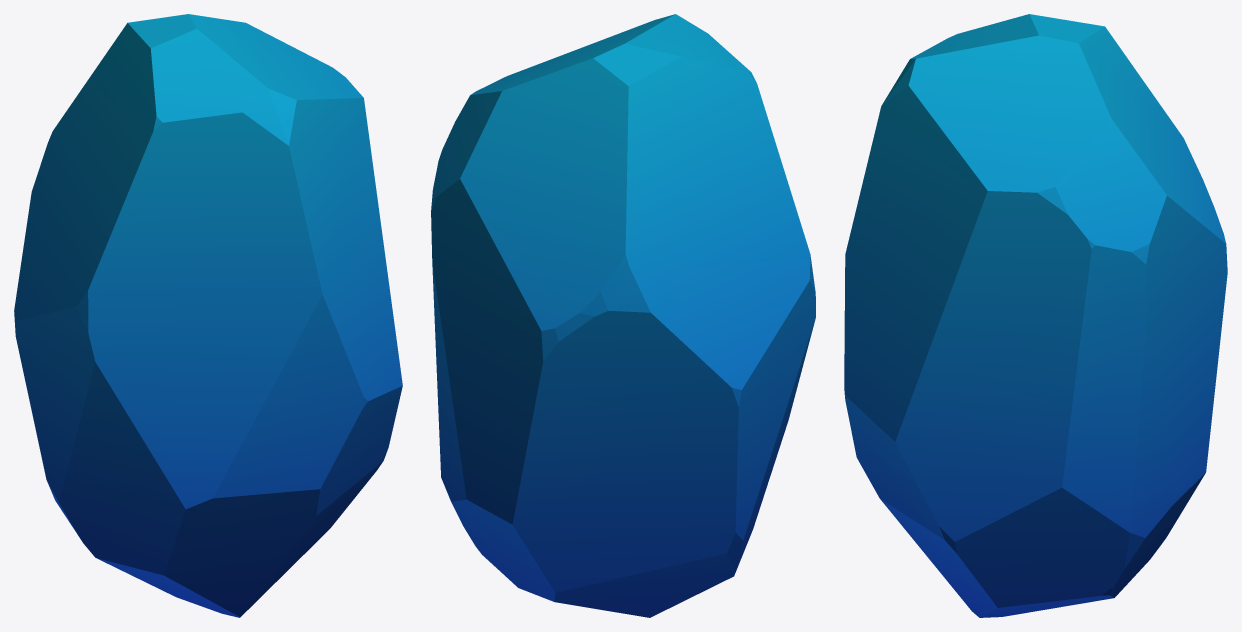
The model's file is Crystal_8.glb.
3 renders of one model, left to right at view 1: azimuth 30°, elevation 25°; view 2: azimuth 150°, elevation 25°; view 3: azimuth 270°, elevation 25°, orthographic.
Parts seen in each view (by area): view 1: crystal_6; view 2: crystal_6; view 3: crystal_6.
Part boxes in pixels (bbox=[...]): crystal_6: bbox=[14, 14, 402, 617]; crystal_6: bbox=[431, 14, 815, 617]; crystal_6: bbox=[844, 14, 1227, 617].
Bounding box in the file's own units: 5.11 × 8.98 × 5.4.
